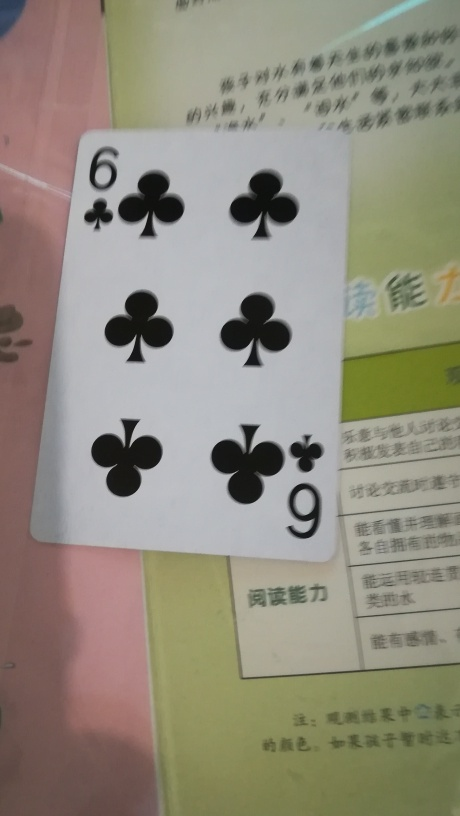mh 6: (25, 124, 352, 568)
